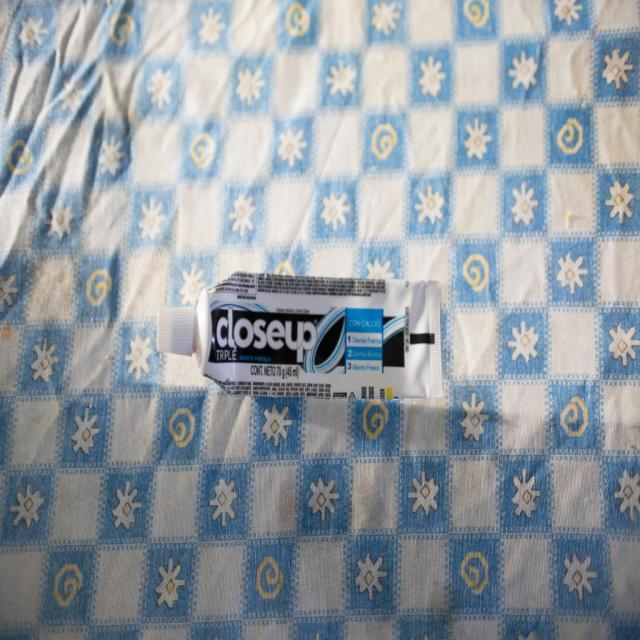Toothpaste: (151, 258, 446, 410)
